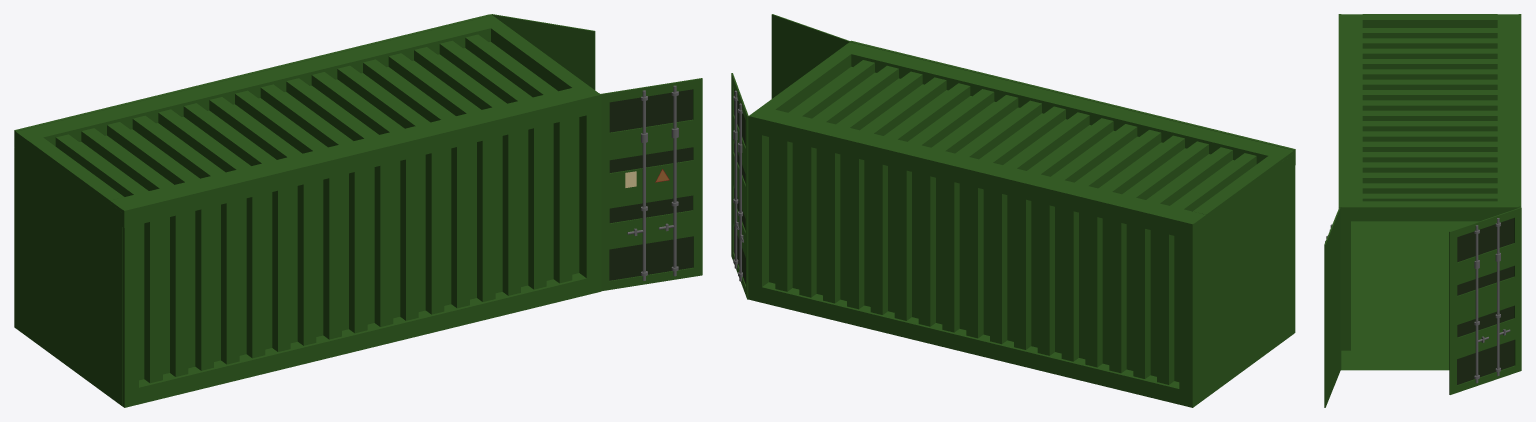
The model's file is Building_CargoContainerOpened_Green.fbx.
3 renders of one model, left to right at view 1: azimuth 30°, elevation 25°; view 2: azimuth 150°, elevation 25°; view 3: azimuth 270°, elevation 25°, orthographic. The views are drawn at different scales.
Visible parts, largest first — view 1: Cube, Cylinder.002, Cylinder.003; view 2: Cube, Cylinder.002, Cylinder.003; view 3: Cube, Cylinder.003, Cylinder.002.
Part boxes in pixels (x1=…): Cube: x1=14, y1=14, x2=601, y2=407; Cylinder.002: x1=601, y1=78, x2=702, y2=291; Cylinder.003: x1=491, y1=14, x2=595, y2=89; Cube: x1=748, y1=40, x2=1295, y2=407; Cylinder.002: x1=771, y1=14, x2=849, y2=98; Cylinder.003: x1=731, y1=73, x2=748, y2=299; Cube: x1=1338, y1=14, x2=1521, y2=370; Cylinder.003: x1=1449, y1=207, x2=1521, y2=394; Cylinder.002: x1=1324, y1=207, x2=1340, y2=407.
Bounding box in the file's own units: 616 × 204 × 223.
